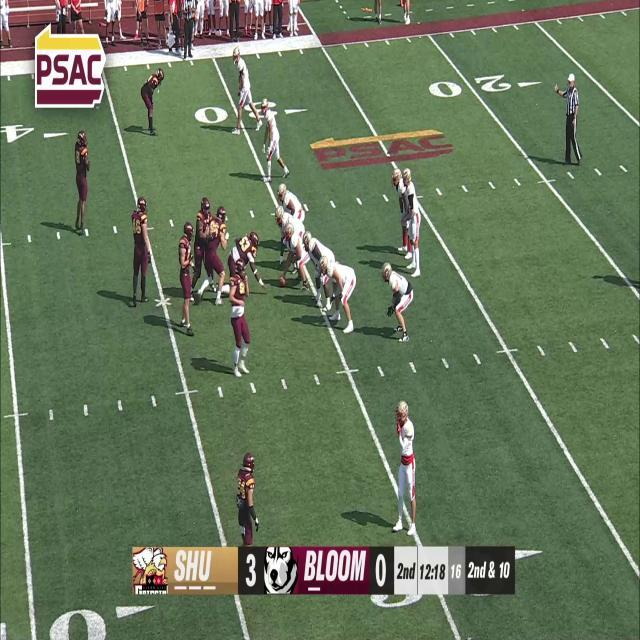football: (278, 275, 287, 286)
